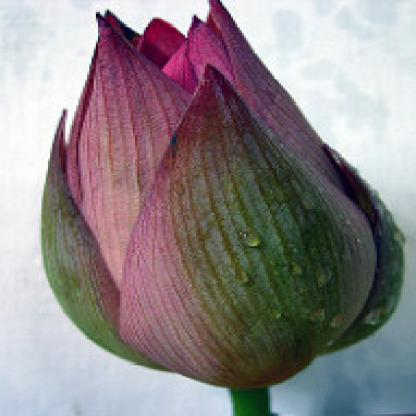ROSE-MAWAR: (25, 3, 415, 384)
